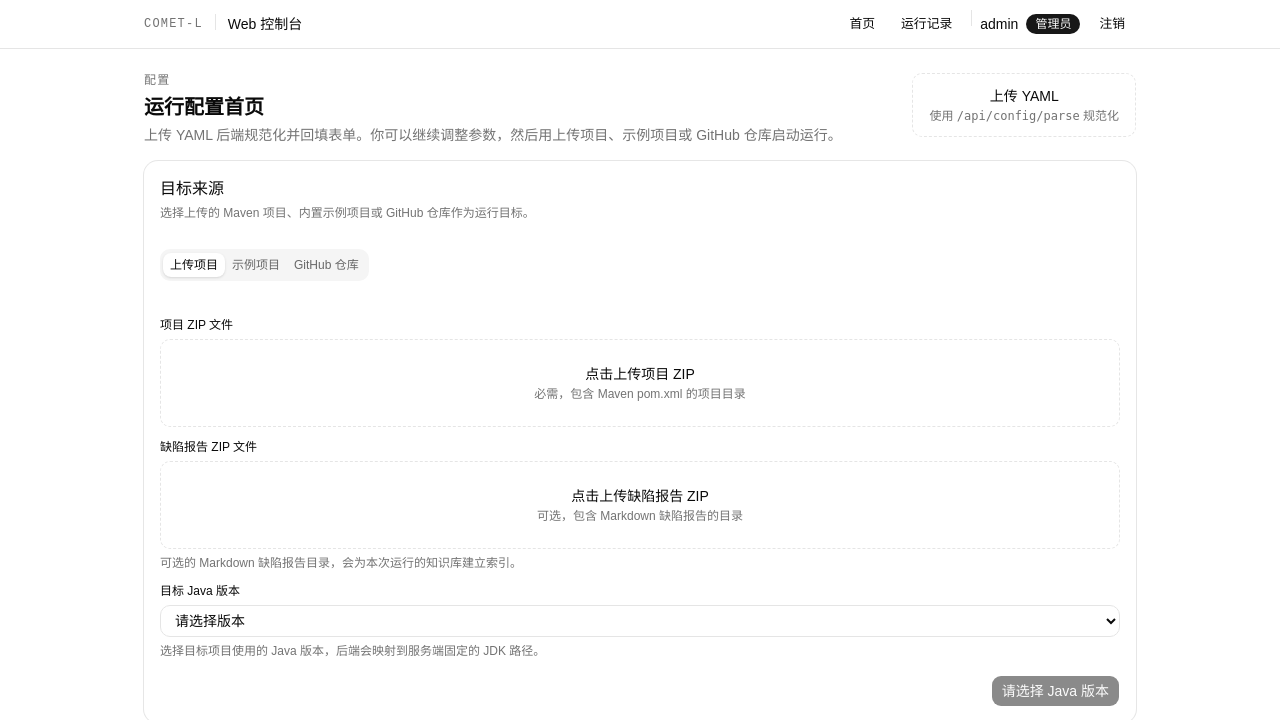
HomePage GitHub auth flow › enables repo inputs when connected
Expected: the file field named "上传项目 ZIP" is shown, x1=160 y1=318 x2=233 y2=332
Click the tab "GitHub 仓库" at (326,265), box x1=287 y1=253 x2=366 y2=277
(page scrolled)
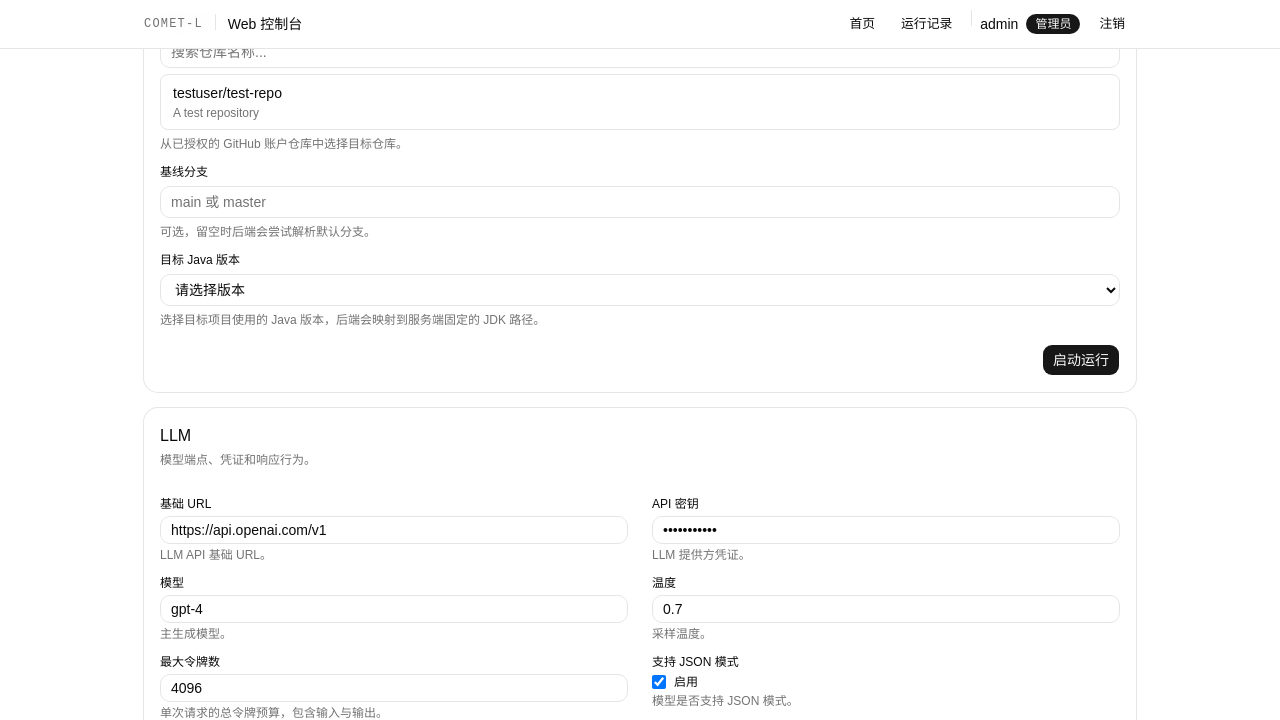
Expected: the dropdown with test id "java-version-select" is enabled, x1=160 y1=274 x2=1120 y2=306
Expected: the field with test id "repo-picker-filter" is enabled, x1=160 y1=36 x2=1120 y2=68
Expected: the button "启动运行" is enabled, x1=1042 y1=344 x2=1120 y2=376
